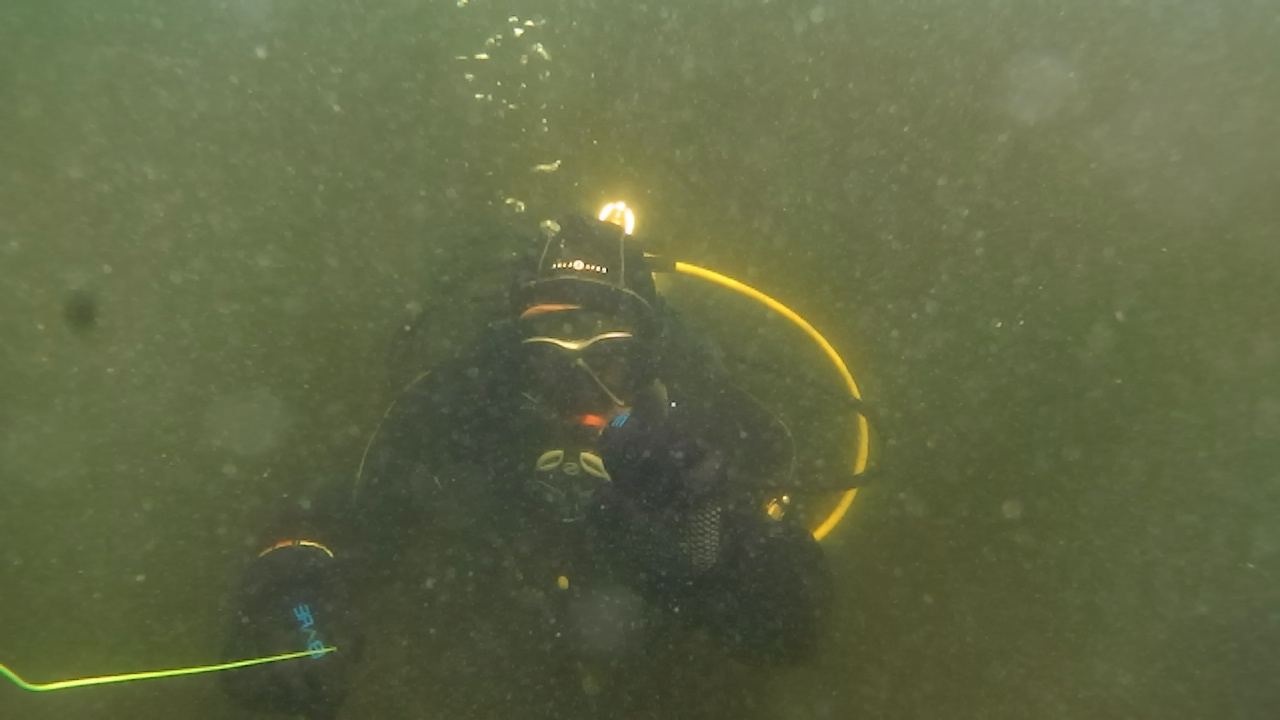Head: (426, 176, 708, 530)
